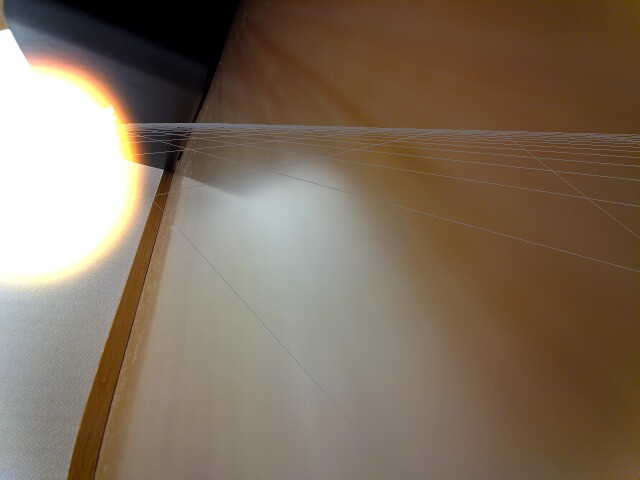firebig: (0, 16, 145, 294)
